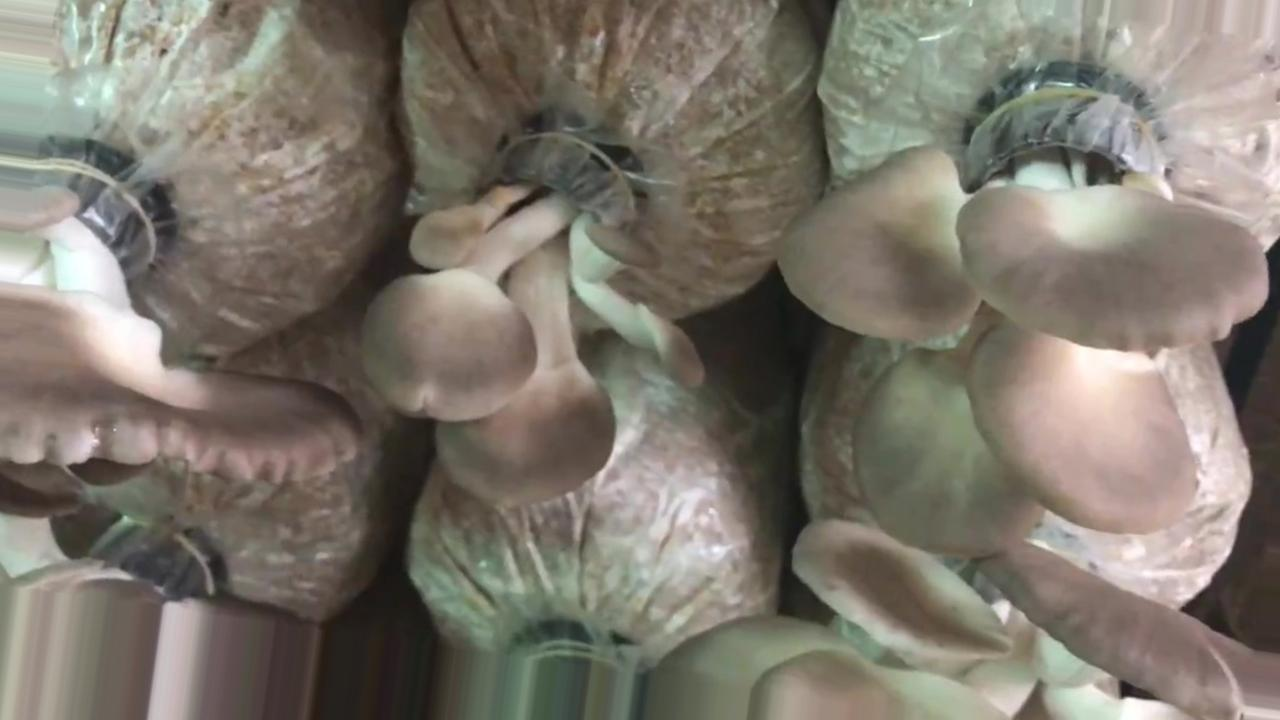nam: (781, 67, 1270, 553), (366, 116, 711, 505), (655, 517, 1280, 718), (1, 146, 367, 481)
